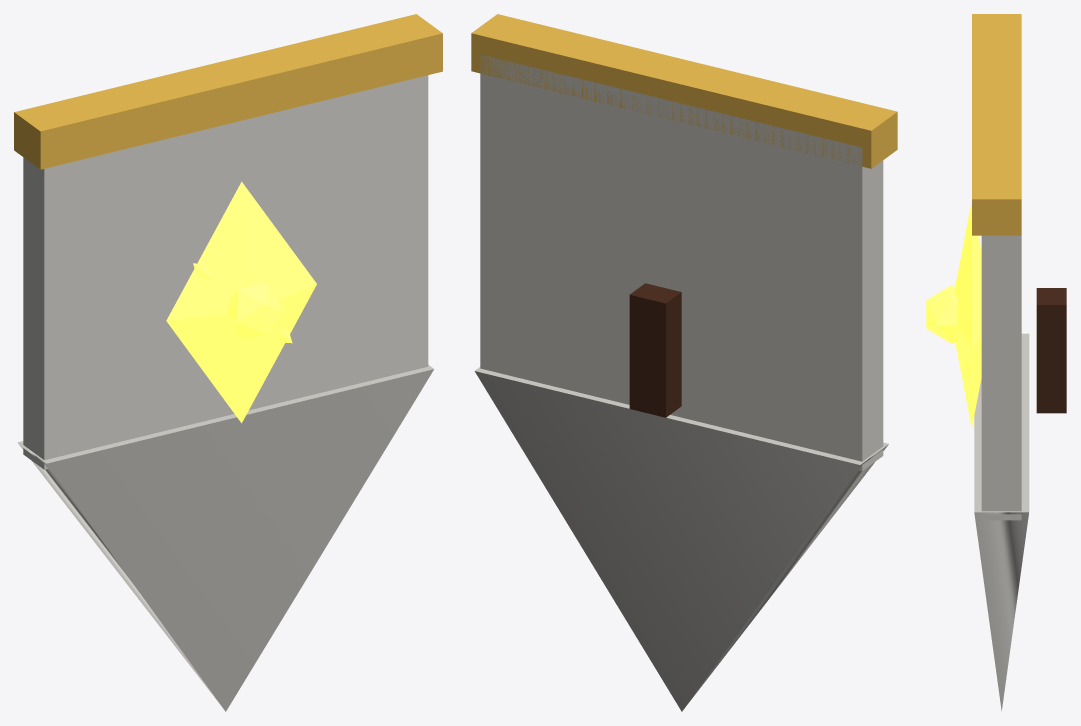
The model's file is shield_t3.glb.
3 views of the same model, side by side, from view 1: azimuth 30°, elevation 25°; view 2: azimuth 150°, elevation 25°; view 3: azimuth 270°, elevation 25° (orthographic). The views are drawn at different scales.
Parts seen in each view (by area): view 1: item_shieldWhite, item_trim3, item_emblem, item_gem3; view 2: item_shieldWhite, item_trim3, item_leather3; view 3: item_shieldWhite, item_trim3, item_emblem, item_leather3, item_gem3.
Boxes of the visible parts, x1,y1,x2,y2 form: item_shieldWhite: (17, 75, 433, 711); item_trim3: (14, 14, 442, 169); item_emblem: (166, 181, 316, 423); item_gem3: (226, 282, 283, 337); item_shieldWhite: (474, 54, 888, 711); item_trim3: (471, 14, 897, 168); item_leather3: (629, 283, 681, 417); item_shieldWhite: (974, 235, 1029, 710); item_trim3: (972, 14, 1021, 235); item_emblem: (954, 200, 981, 428); item_leather3: (1036, 288, 1066, 413); item_gem3: (926, 285, 957, 343).
Bounding box in the file's own units: 0.44 × 0.67 × 0.1405.
